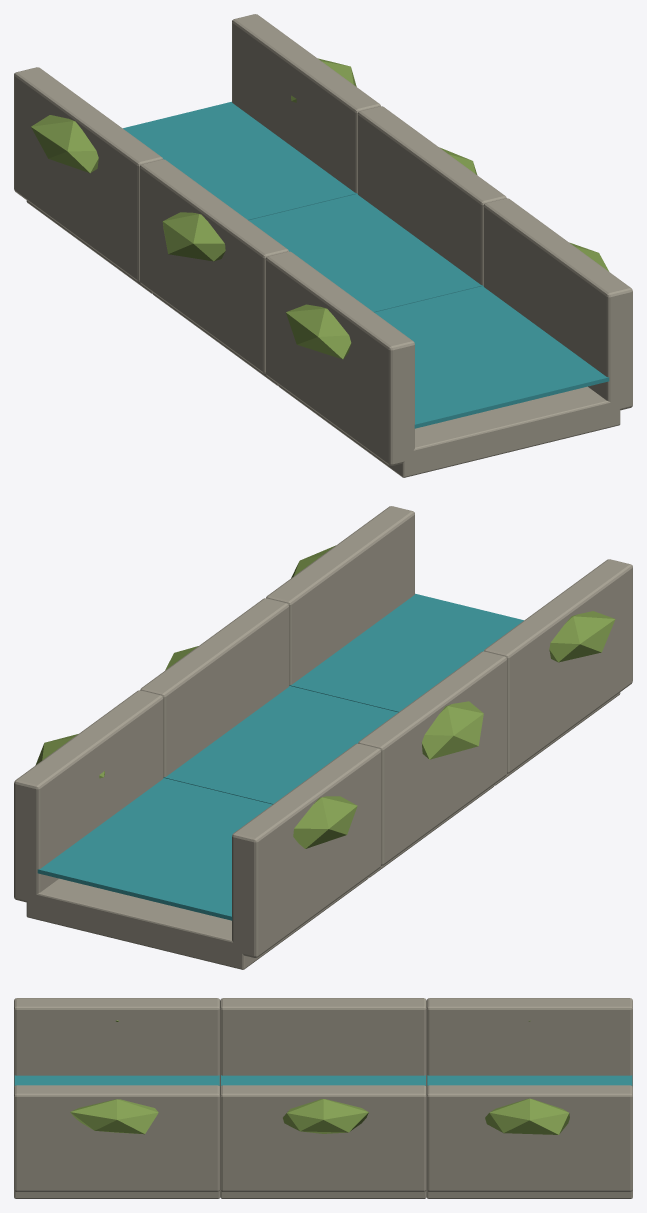
Rendered from Channel_Straight_Reclaimed.glb.
3 renders of one model, top to bottom at view 1: azimuth 30°, elevation 25°; view 2: azimuth 150°, elevation 25°; view 3: azimuth 270°, elevation 25°, orthographic. The views are drawn at different scales.
Parts seen in each view (by area): view 1: Structure, Water, Growth; view 2: Structure, Water, Growth; view 3: Structure, Water, Growth.
Boxes of the visible parts, x1,y1,x2,y2 form: Structure: (14,14,632,477); Water: (123,101,609,428); Growth: (31,58,609,359); Structure: (14,506,632,969); Water: (37,593,523,920); Growth: (35,545,615,848); Structure: (14,998,632,1198); Water: (14,1075,632,1085); Growth: (70,1020,569,1134).
Size of the model in its own units: 2.83 by 1.17 by 6.
